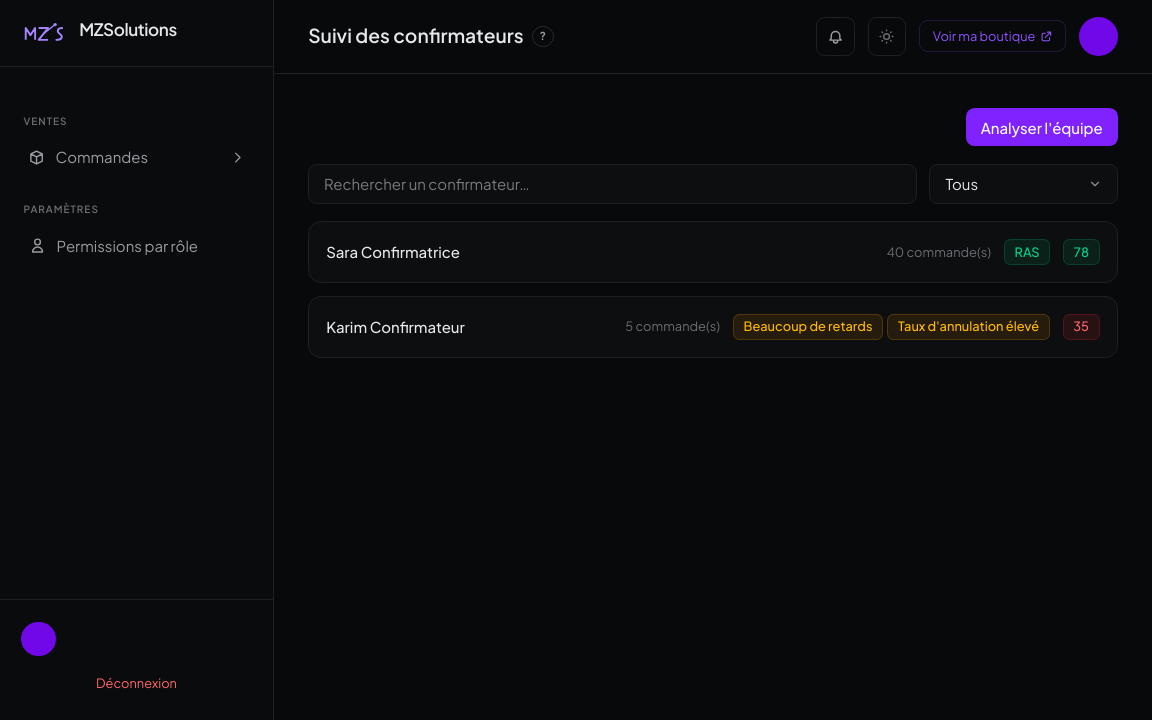
Test: ConfirmateurMonitoringPage › affiche la synthèse IA individuelle au clic sur Analyser
Click the text "Karim Confirmateur" at (396, 327), box x1=326 y1=316 x2=465 y2=338
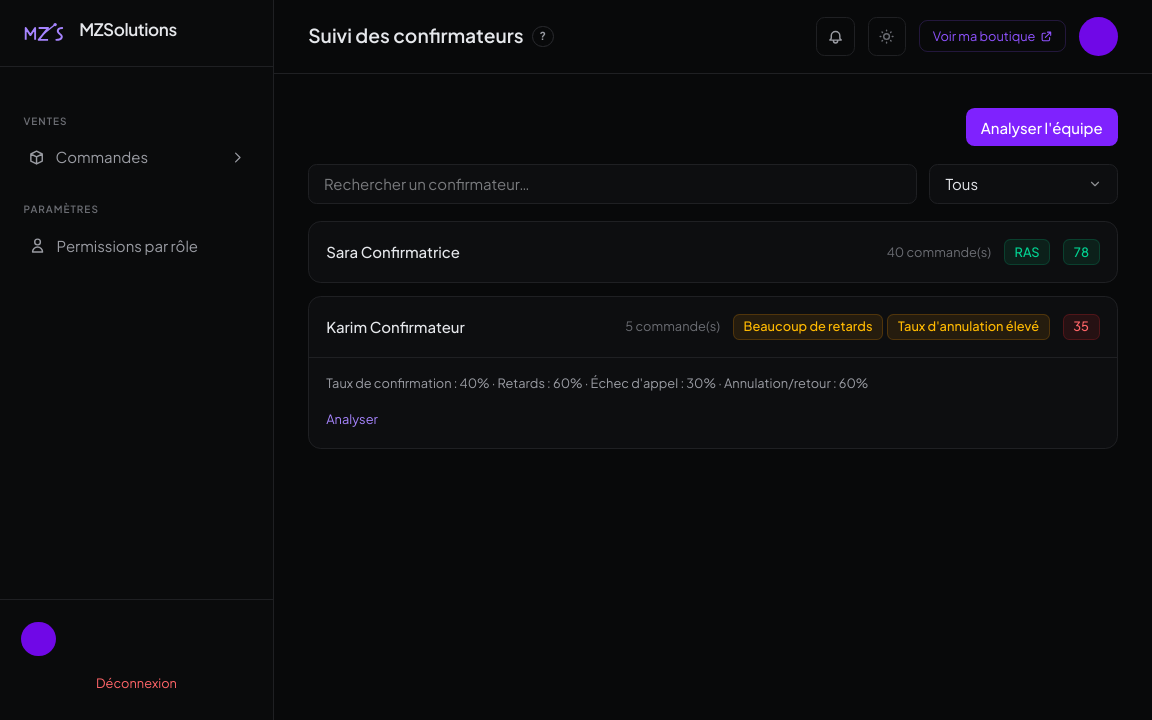
Now the text "40%" is shown, box x1=326 y1=375 x2=551 y2=391
Click the button "Analyser" at (352, 419), box x1=326 y1=411 x2=378 y2=428
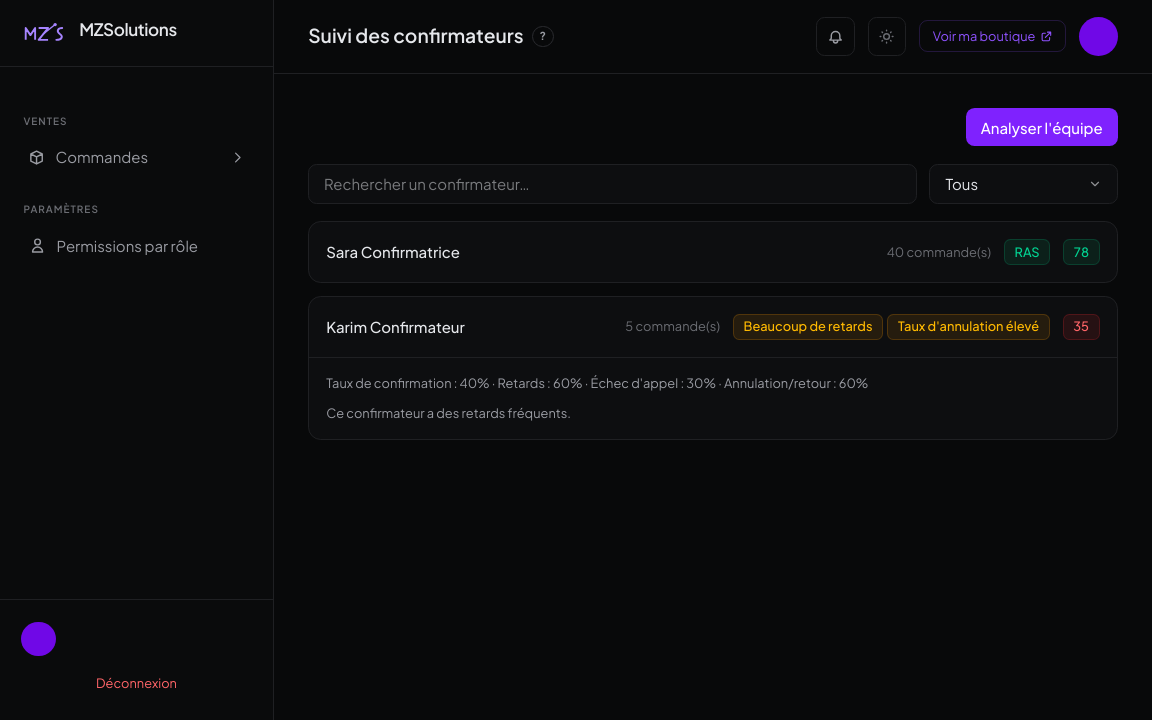
Now the text "Ce confirmateur a des retards fréquents." is shown, box x1=326 y1=405 x2=571 y2=421
